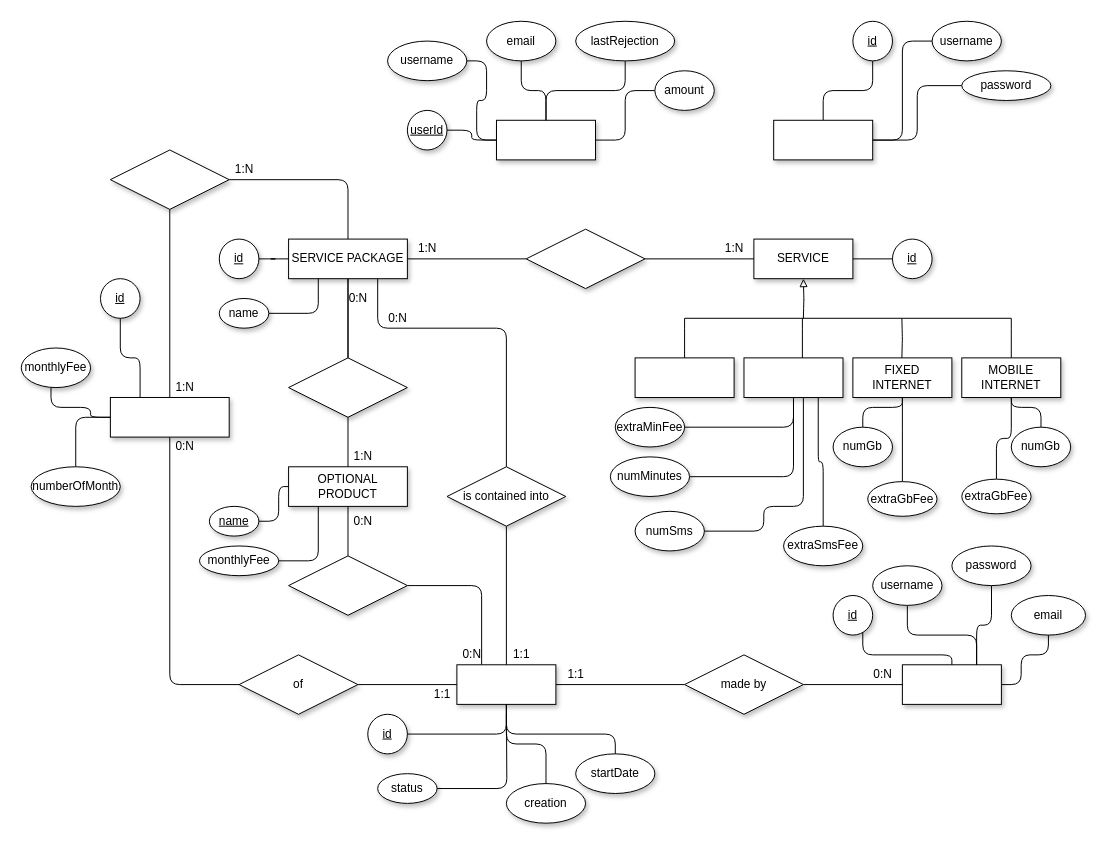
Some shapes in this 1109 by 847 pixel diagram are drawn without their labels. Here are the shapes that lost their labels. From the top down, the centre of each, then its label:
[546,141]: ALERT
[824,141]: EMPLOYEE
[170,180]: choosing from
[586,260]: composed by
[348,388]: can includes
[685,378]: FIXED PHONE
[794,378]: MOBILE PHONE
[170,418]: VALIDITY PERIOD
[348,586]: is associated to
[507,685]: ORDER
[952,685]: USER
